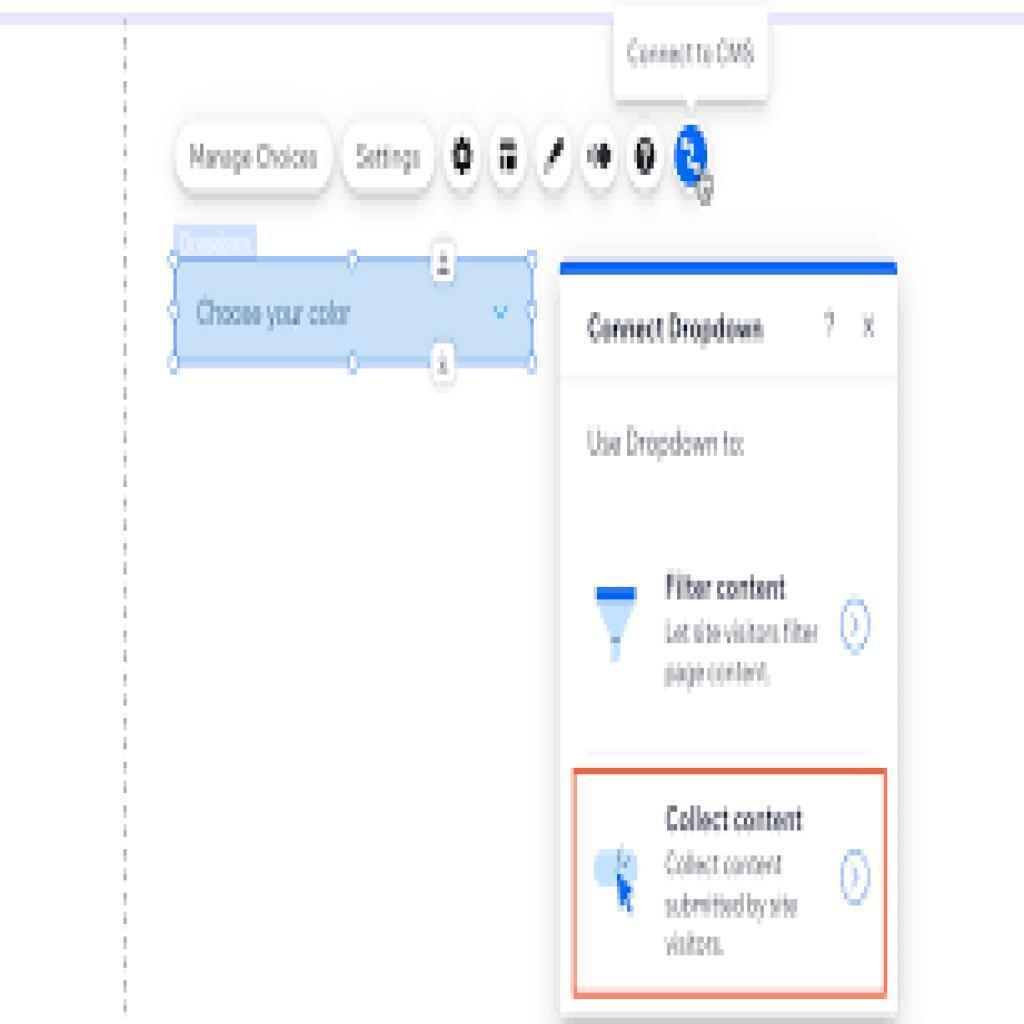button: (173, 115, 334, 196), (340, 113, 437, 199)
dropdown: (175, 258, 535, 367)
icon: (494, 133, 523, 177), (450, 132, 474, 180), (541, 136, 565, 178), (634, 136, 658, 176), (585, 143, 615, 169)
